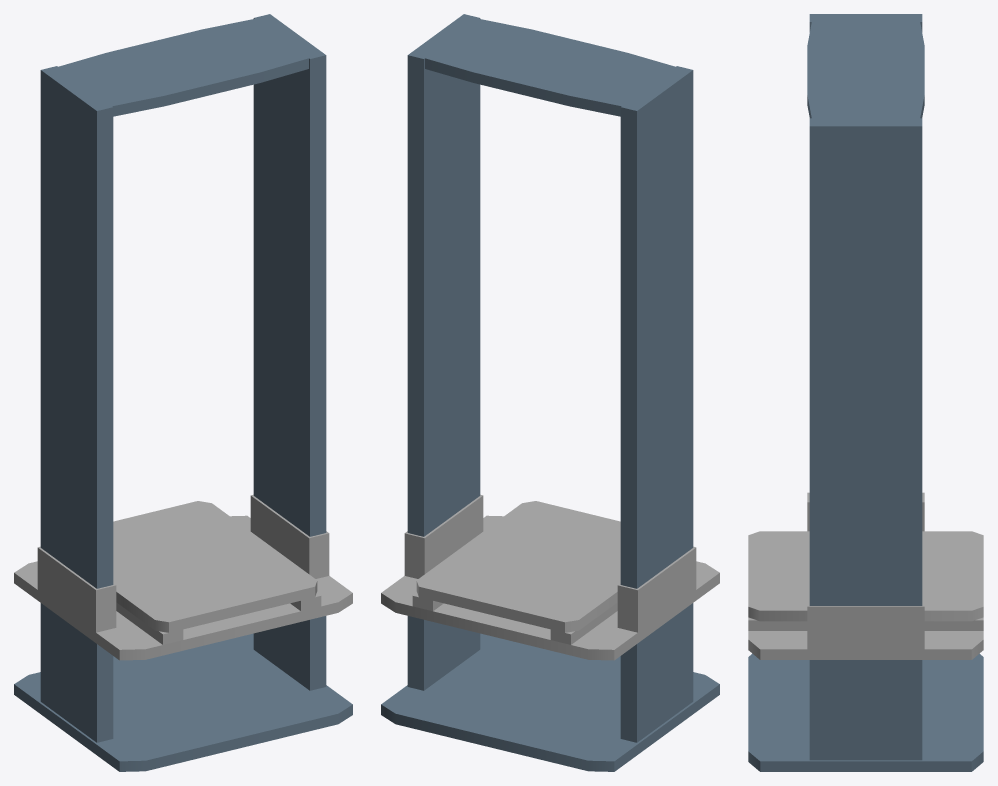
Rendered from Stacker Cranes.glb.
The picture shows the model from 3 angles, left to right: view 1: azimuth 30°, elevation 25°; view 2: azimuth 150°, elevation 25°; view 3: azimuth 270°, elevation 25°; orthographic projection.
Visible parts, largest first — view 1: Mesh_001g, Mesh_002g, Mesh_000g, Mesh_007g, Mesh_003g, Mesh_004g, Mesh_005g, Mesh_006g, Mesh_008g; view 2: Mesh_001g, Mesh_002g, Mesh_000g, Mesh_007g, Mesh_003g, Mesh_004g, Mesh_005g, Mesh_006g, Mesh_008g; view 3: Mesh_002g, Mesh_000g, Mesh_003g, Mesh_007g, Mesh_006g, Mesh_004g, Mesh_009g, Mesh_001g.
Part boxes in pixels (x1=…): Mesh_001g: x1=40, y1=66, x2=113, y2=742; Mesh_002g: x1=253, y1=14, x2=326, y2=690; Mesh_000g: x1=14, y1=633, x2=352, y2=771; Mesh_007g: x1=113, y1=501, x2=317, y2=632; Mesh_003g: x1=51, y1=19, x2=320, y2=116; Mesh_004g: x1=14, y1=515, x2=352, y2=660; Mesh_005g: x1=37, y1=546, x2=116, y2=632; Mesh_006g: x1=250, y1=494, x2=329, y2=578; Mesh_008g: x1=116, y1=602, x2=183, y2=644; Mesh_001g: x1=620, y1=66, x2=693, y2=742; Mesh_002g: x1=407, y1=14, x2=480, y2=690; Mesh_000g: x1=381, y1=633, x2=719, y2=771; Mesh_007g: x1=416, y1=501, x2=620, y2=632; Mesh_003g: x1=412, y1=16, x2=687, y2=116; Mesh_004g: x1=381, y1=515, x2=719, y2=660; Mesh_005g: x1=617, y1=546, x2=696, y2=632; Mesh_006g: x1=404, y1=494, x2=483, y2=578; Mesh_008g: x1=550, y1=602, x2=617, y2=644; Mesh_002g: x1=809, y1=118, x2=922, y2=760; Mesh_000g: x1=748, y1=653, x2=983, y2=771; Mesh_003g: x1=807, y1=15, x2=924, y2=125; Mesh_007g: x1=748, y1=531, x2=983, y2=621; Mesh_006g: x1=807, y1=597, x2=924, y2=649; Mesh_004g: x1=748, y1=631, x2=983, y2=659; Mesh_009g: x1=748, y1=617, x2=983, y2=630; Mesh_001g: x1=809, y1=14, x2=922, y2=31.
Bounding box in the file's own units: 115 × 302 × 100.
